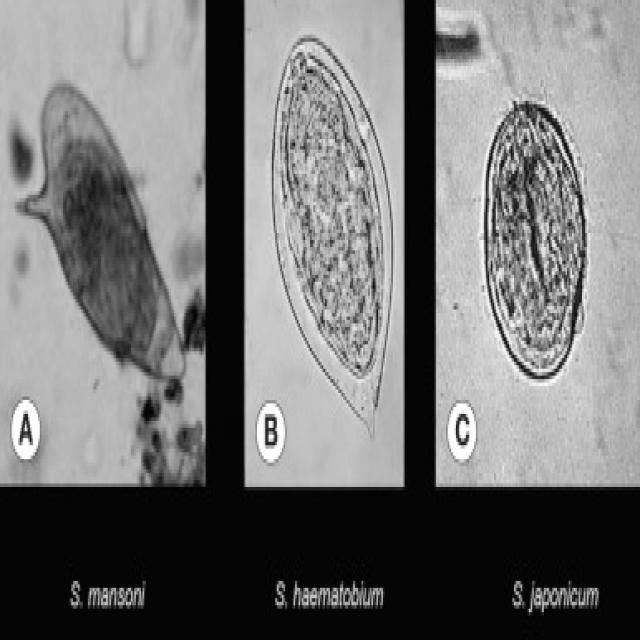Schistosoma: (262, 12, 400, 461), (14, 57, 193, 395), (475, 84, 593, 382)
